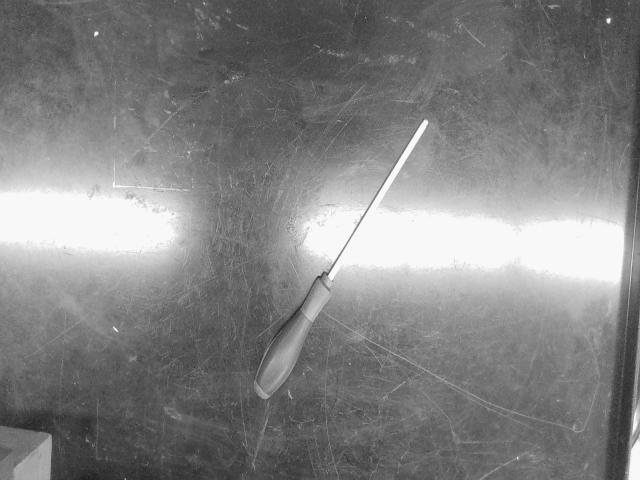Screwdriver: (254, 119, 429, 400)
